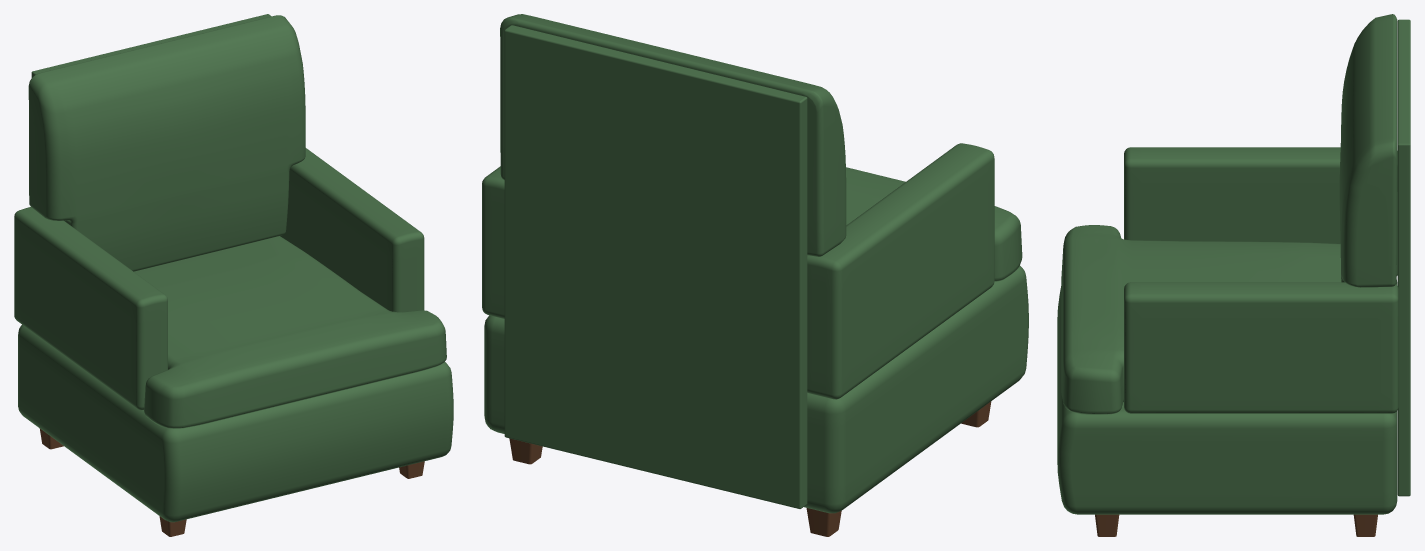
The model's file is tourLounge_sofa.fbx.
3 views of the same model, side by side, from view 1: azimuth 30°, elevation 25°; view 2: azimuth 150°, elevation 25°; view 3: azimuth 270°, elevation 25° (orthographic). The views are drawn at different scales.
Visible parts, largest first — view 1: polySurface25; view 2: polySurface25; view 3: polySurface25.
Part boxes in pixels (x1,y1,x2,y2): polySurface25: (14,14,453,536); polySurface25: (482,14,1028,536); polySurface25: (1057,14,1410,536).
Bounding box in the file's own units: 25.75 × 30.83 × 25.23.
